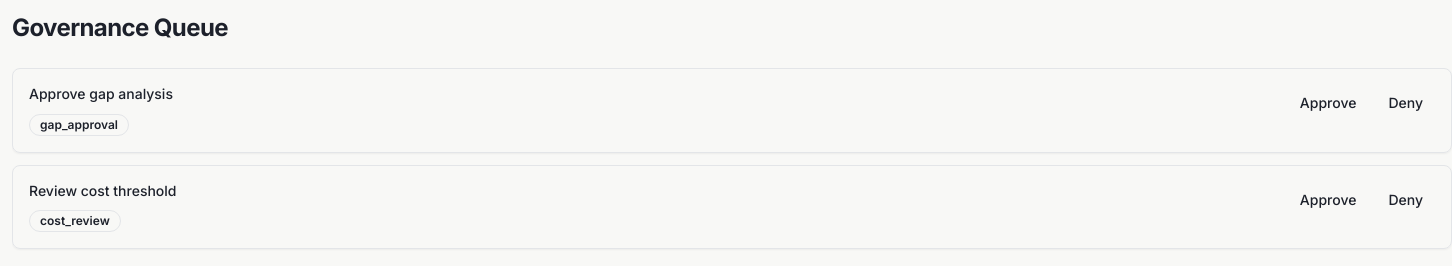
BATCH-20/TASK-02: Governance Queue Page › TEST-20-02-02: approving an item removes it from the list
Expected: the heading "Approve gap analysis" is shown, [29,85,173,102]
Click the button with test id "approve-btn-gap_001".
click(1328, 103)  # box [1288,85,1368,121]
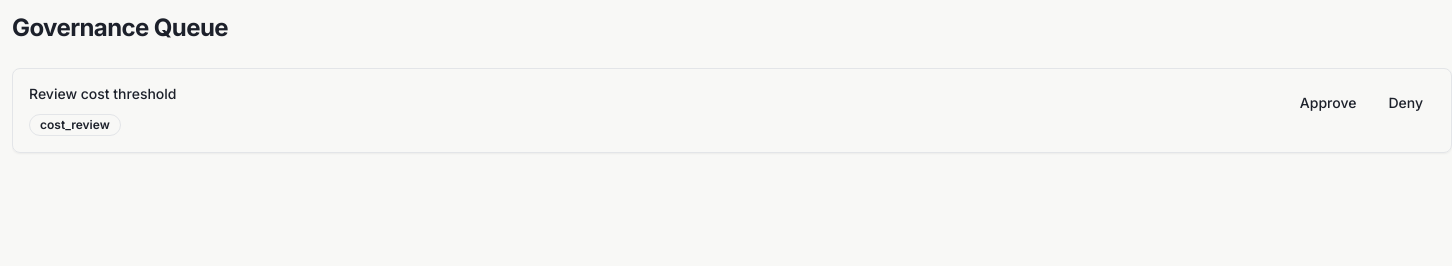
Expected: the heading "Review cost threshold" is shown, [29,85,176,102]
Expected: the heading "Approve gap analysis" is gone
